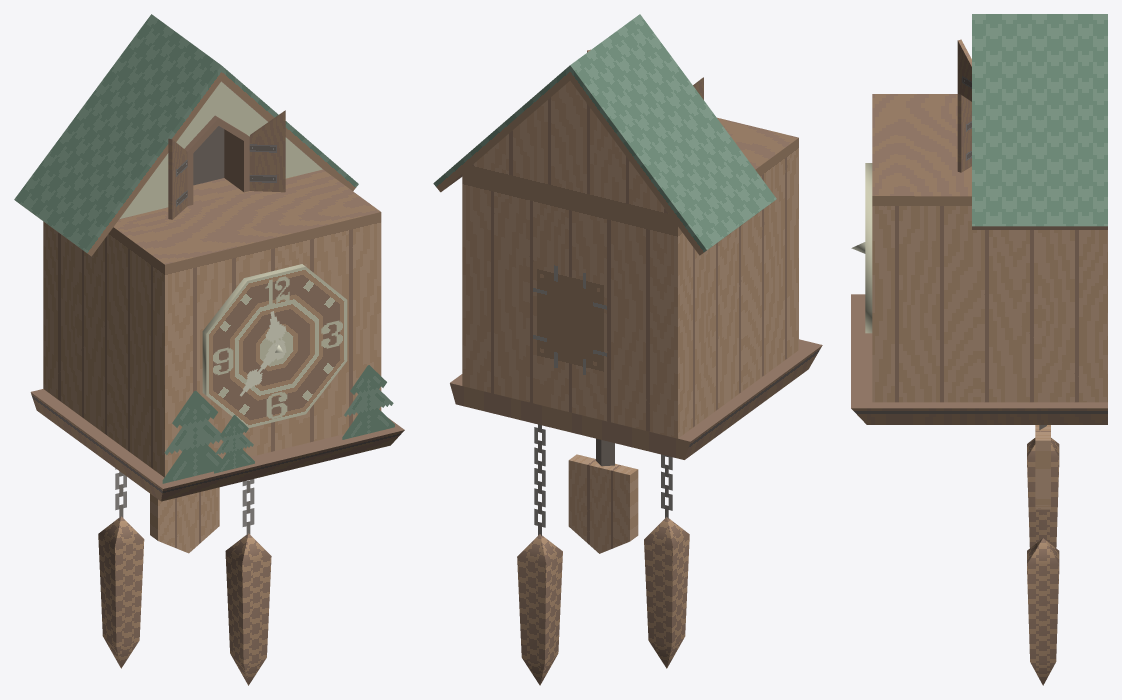
The model's file is 04be_Cuckoo_Clock.glb.
3 renders of one model, left to right at view 1: azimuth 30°, elevation 25°; view 2: azimuth 150°, elevation 25°; view 3: azimuth 270°, elevation 25°, orthographic. The views are drawn at different scales.
Parts seen in each view (by area): view 1: part_0; view 2: part_0; view 3: part_0.
Part boxes in pixels (box(x1,y1,x2,y2)): part_0: box(14, 14, 404, 685); part_0: box(433, 14, 822, 685); part_0: box(851, 14, 1107, 685).
Bounding box in the file's own units: 0.216 × 0.4979 × 0.1805.
1 material, 1 textured.
